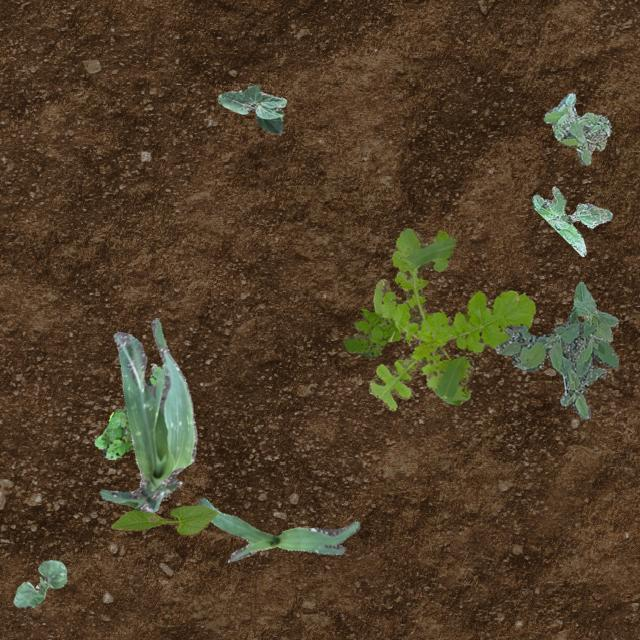crop: (100, 316, 196, 512), (196, 496, 358, 562), (217, 84, 286, 132), (110, 504, 217, 534), (572, 280, 618, 340), (12, 558, 66, 608)
weed: (368, 228, 534, 410), (493, 306, 618, 418), (94, 362, 160, 458), (532, 186, 612, 256), (542, 92, 610, 164), (342, 308, 398, 357)
